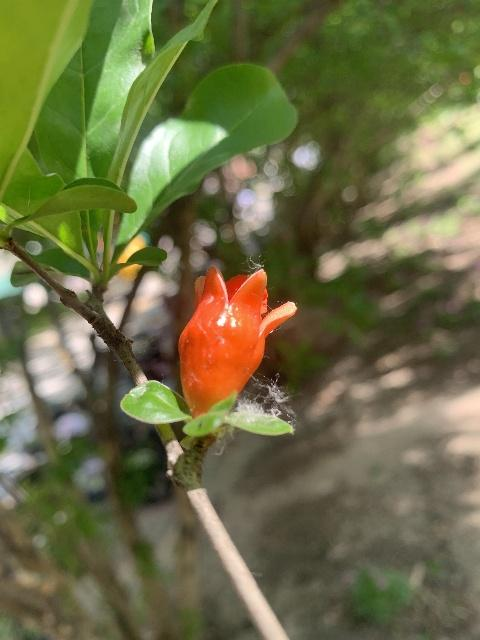flower: (178, 264, 298, 420)
